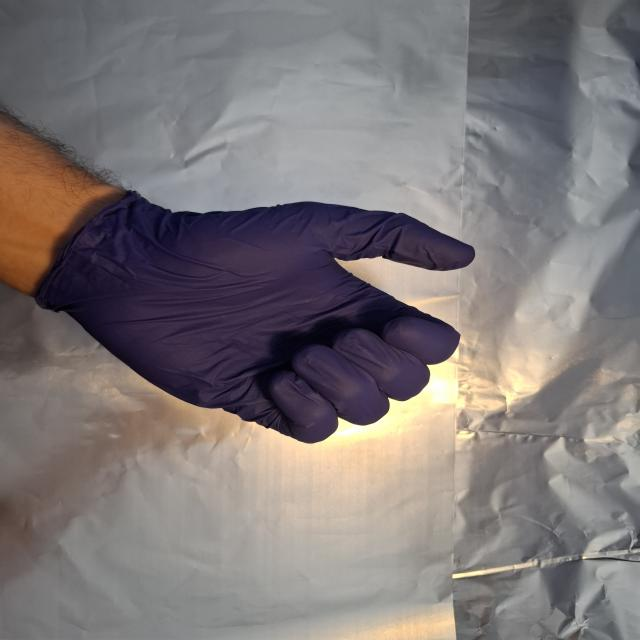glove_on: (41, 189, 479, 448)
